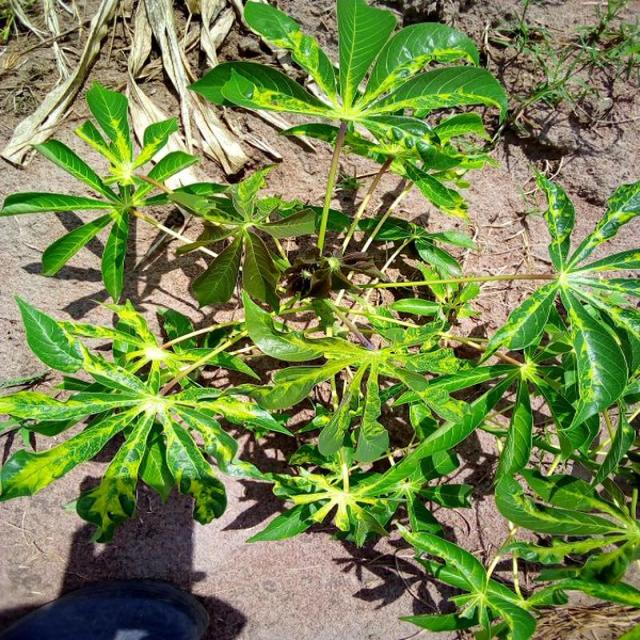cassava leaf: (0, 1, 638, 636), (0, 292, 292, 543)
